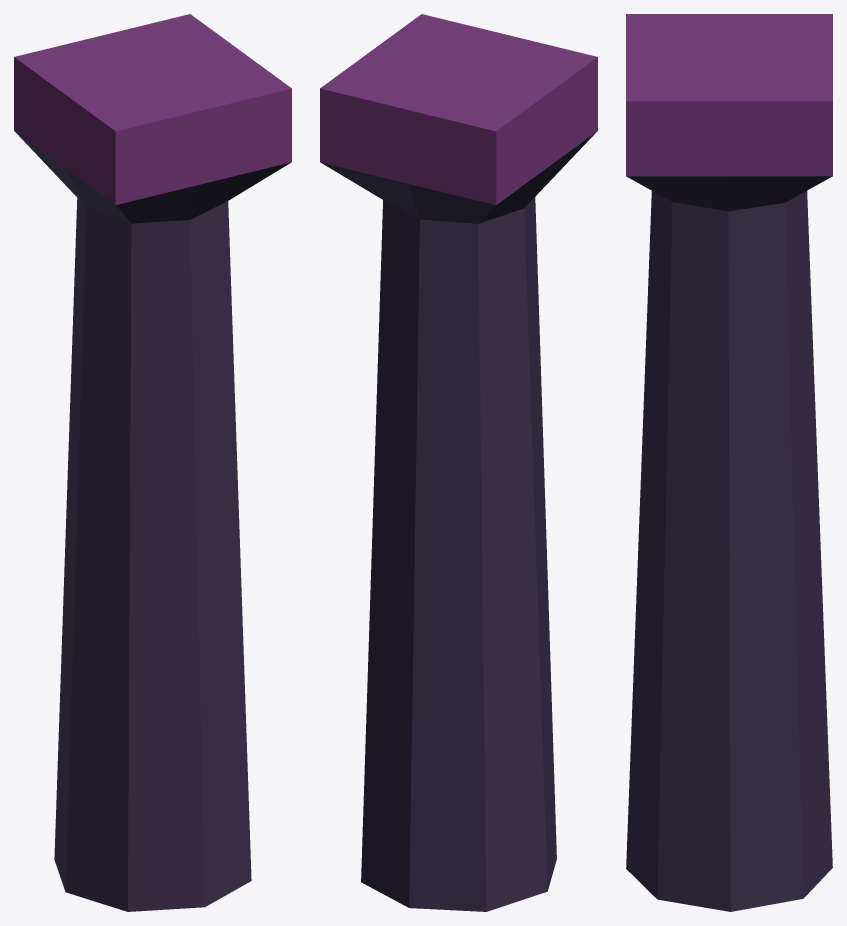
The model's file is Haunted column.fbx.
The picture shows the model from 3 angles, left to right: view 1: azimuth 30°, elevation 25°; view 2: azimuth 150°, elevation 25°; view 3: azimuth 270°, elevation 25°; orthographic projection.
Visible parts, largest first — view 1: Regular Plane9_cut2_default; view 2: Regular Plane9_cut2_default; view 3: Regular Plane9_cut2_default.
Boxes of the visible parts, box(x1,y1,x2,y2) form: Regular Plane9_cut2_default: box(14, 14, 291, 911); Regular Plane9_cut2_default: box(320, 14, 597, 911); Regular Plane9_cut2_default: box(626, 14, 832, 911).
Size of the model in its own units: 75 by 324 by 75.
